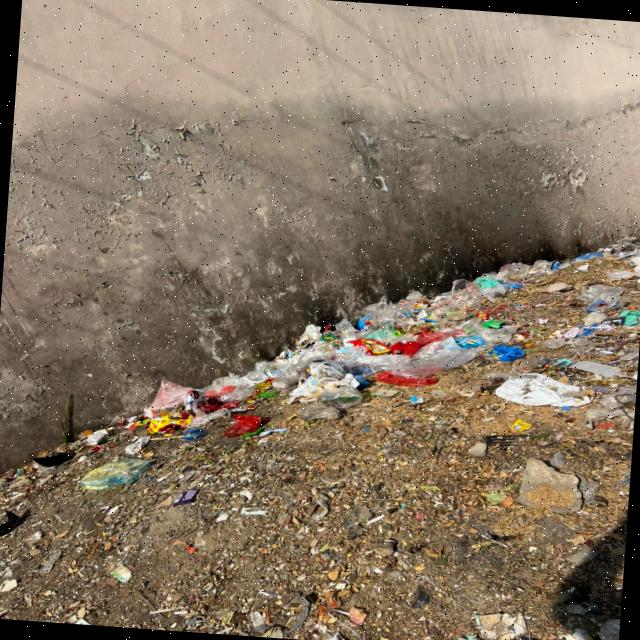garbage: (90, 231, 638, 462)
